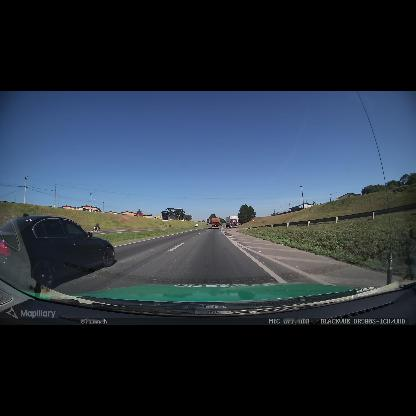R-2: (252, 220, 255, 222)
R-24a: (263, 219, 265, 223)
